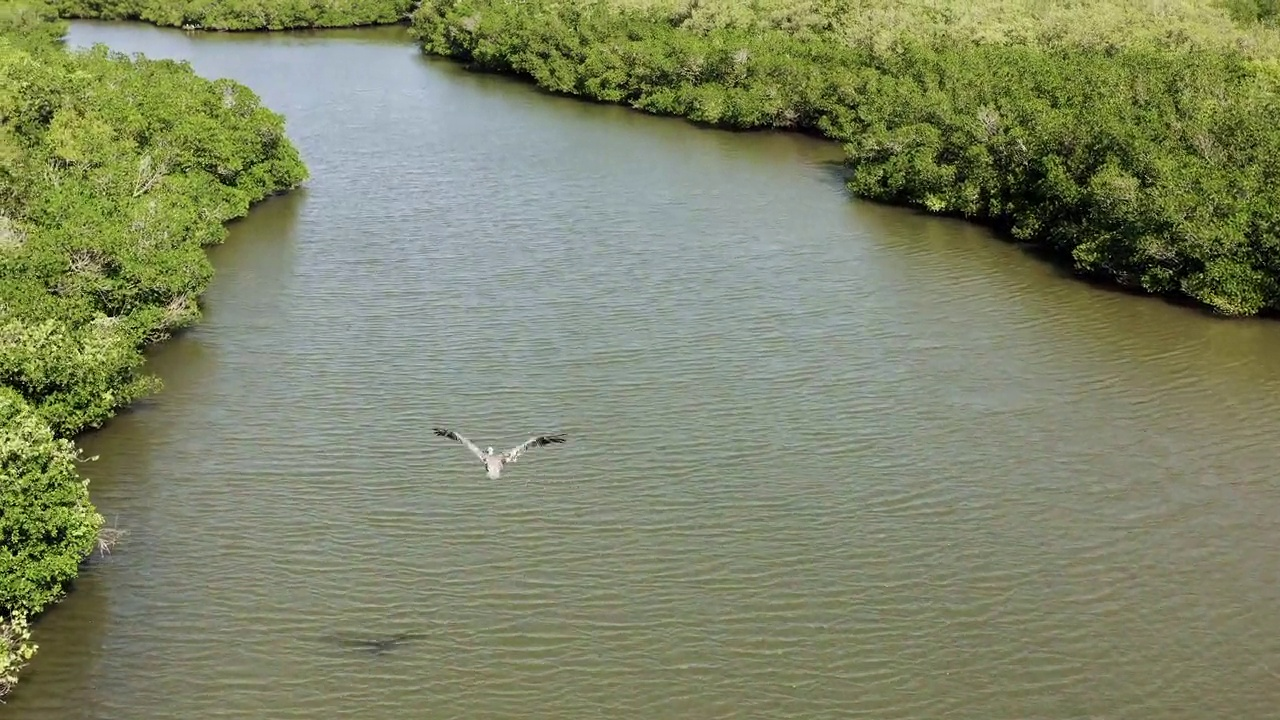bird: (432, 423, 564, 480)
